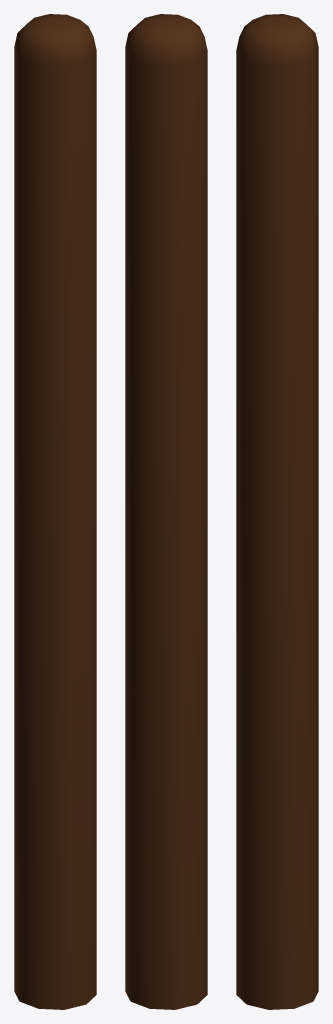
The model's file is Cake_items_WaferStick-B.FBX.
3 renders of one model, left to right at view 1: azimuth 30°, elevation 25°; view 2: azimuth 210°, elevation 25°; view 3: azimuth 330°, elevation 25°, orthographic.
Parts seen in each view (by area): view 1: Cake_items_WaferStick-B; view 2: Cake_items_WaferStick-B; view 3: Cake_items_WaferStick-B.
Part boxes in pixels (x1=…): Cake_items_WaferStick-B: x1=14, y1=14, x2=96, y2=1009; Cake_items_WaferStick-B: x1=125, y1=14, x2=207, y2=1009; Cake_items_WaferStick-B: x1=236, y1=14, x2=318, y2=1009.
Size of the model in its own units: 321 by 4140 by 305.
